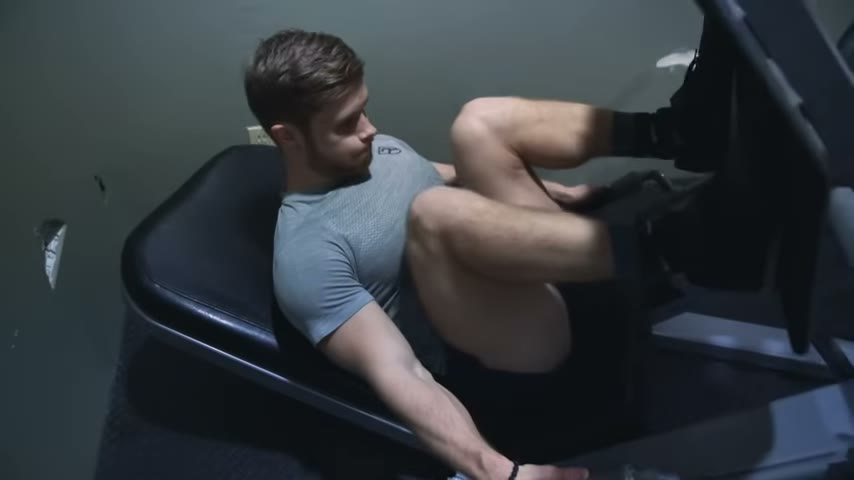barbell_plate_side: (101, 121, 277, 479)
